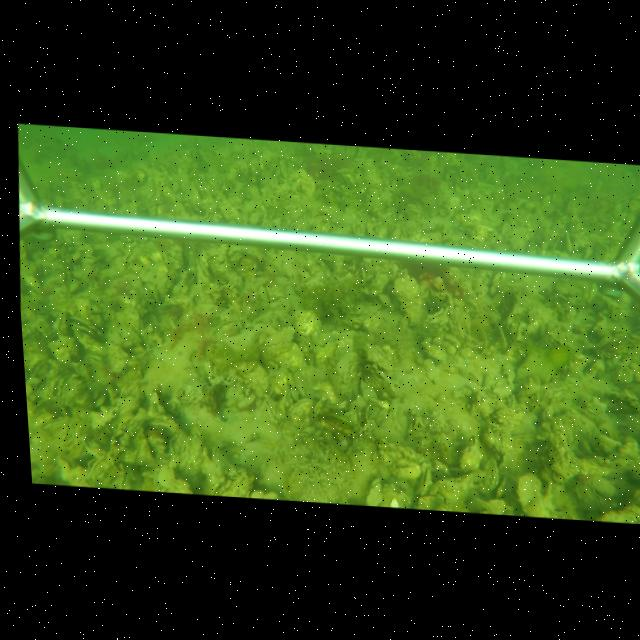Oyster-Closed: (144, 414, 182, 454), (334, 349, 361, 398), (575, 478, 605, 513), (366, 368, 397, 398), (421, 299, 450, 330), (57, 374, 85, 406), (478, 456, 500, 496), (412, 458, 432, 500), (362, 477, 382, 506), (366, 404, 388, 426), (489, 375, 508, 394), (405, 415, 419, 437)
Oyster-Indeterminate: (392, 277, 425, 327), (517, 472, 550, 516), (261, 341, 306, 370)
Oyster-Open: (68, 314, 105, 339)
